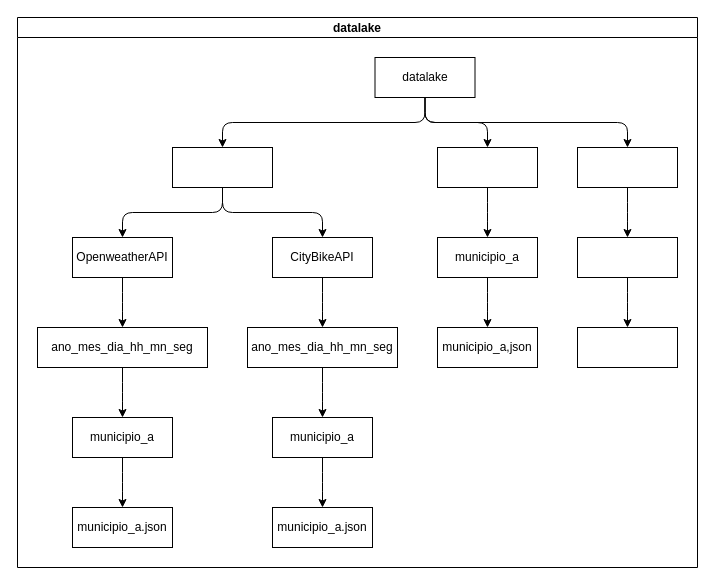
Some shapes in this 715 by 585 pixel diagram are drawn without their labels. Here are the shapes that lost their labels. From the top down, the box of each, then its label:
(172, 146, 272, 188): bronze
(436, 146, 538, 188): prata
(576, 146, 678, 188): ouro
(576, 236, 678, 278): metrica_a
(576, 326, 678, 368): metrica_a.json
